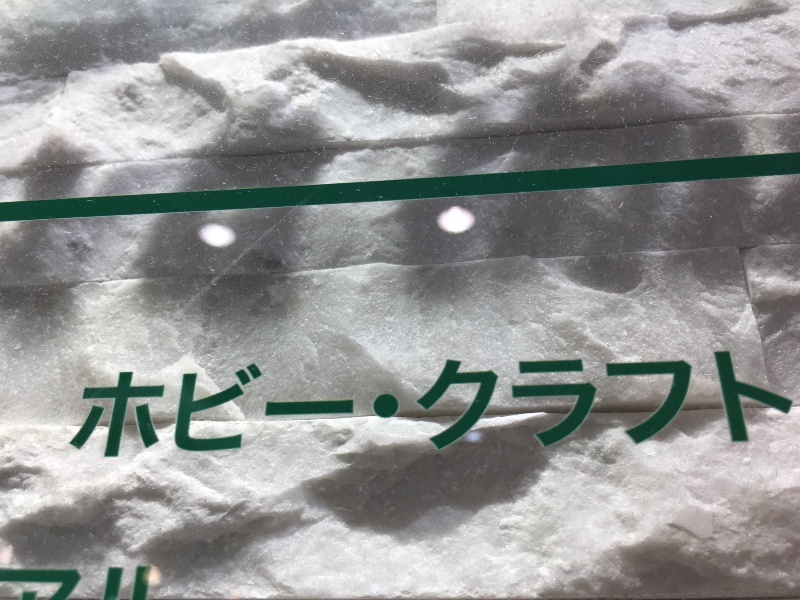text: (97, 346, 112, 463), (113, 346, 128, 463), (129, 346, 144, 463), (145, 346, 160, 463), (161, 346, 176, 463), (177, 346, 192, 463), (193, 346, 208, 463), (209, 346, 224, 463), (225, 346, 240, 463), (241, 346, 256, 463), (257, 346, 272, 463), (273, 346, 288, 463), (289, 346, 304, 463), (305, 346, 320, 463), (321, 346, 336, 463), (337, 346, 352, 463), (353, 346, 368, 463), (369, 346, 384, 463), (385, 346, 400, 463), (401, 346, 416, 463), (417, 346, 432, 463), (433, 346, 448, 463), (449, 346, 464, 463), (465, 346, 480, 463), (481, 346, 496, 463), (497, 346, 512, 463), (513, 346, 528, 463), (529, 346, 544, 463), (545, 346, 560, 463), (561, 346, 576, 463), (577, 346, 592, 463), (593, 346, 608, 463), (609, 346, 624, 463), (625, 346, 640, 463), (641, 346, 656, 463), (657, 346, 672, 463), (673, 346, 688, 463), (689, 346, 704, 463), (705, 346, 720, 463), (721, 346, 736, 463), (737, 346, 752, 463), (753, 346, 768, 463), (769, 346, 784, 463), (785, 346, 795, 463), (87, 346, 96, 463), (1, 566, 16, 599), (17, 566, 32, 599), (33, 566, 48, 599), (49, 566, 64, 599), (65, 566, 80, 599), (81, 566, 96, 599), (97, 566, 112, 599), (113, 566, 128, 599), (129, 566, 144, 599), (145, 566, 152, 599)
